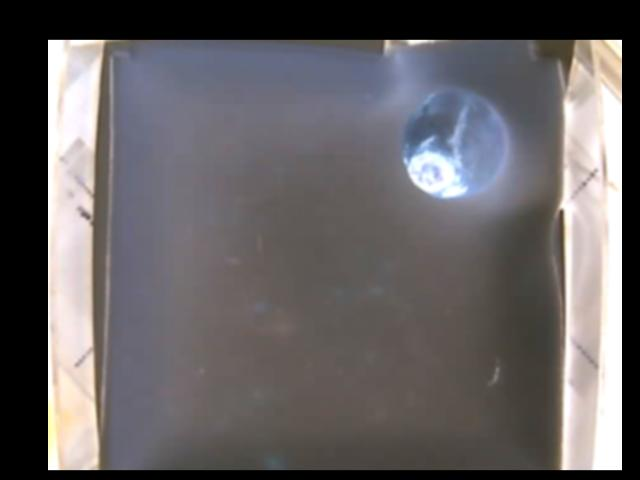Mooli: (402, 86, 508, 199)
